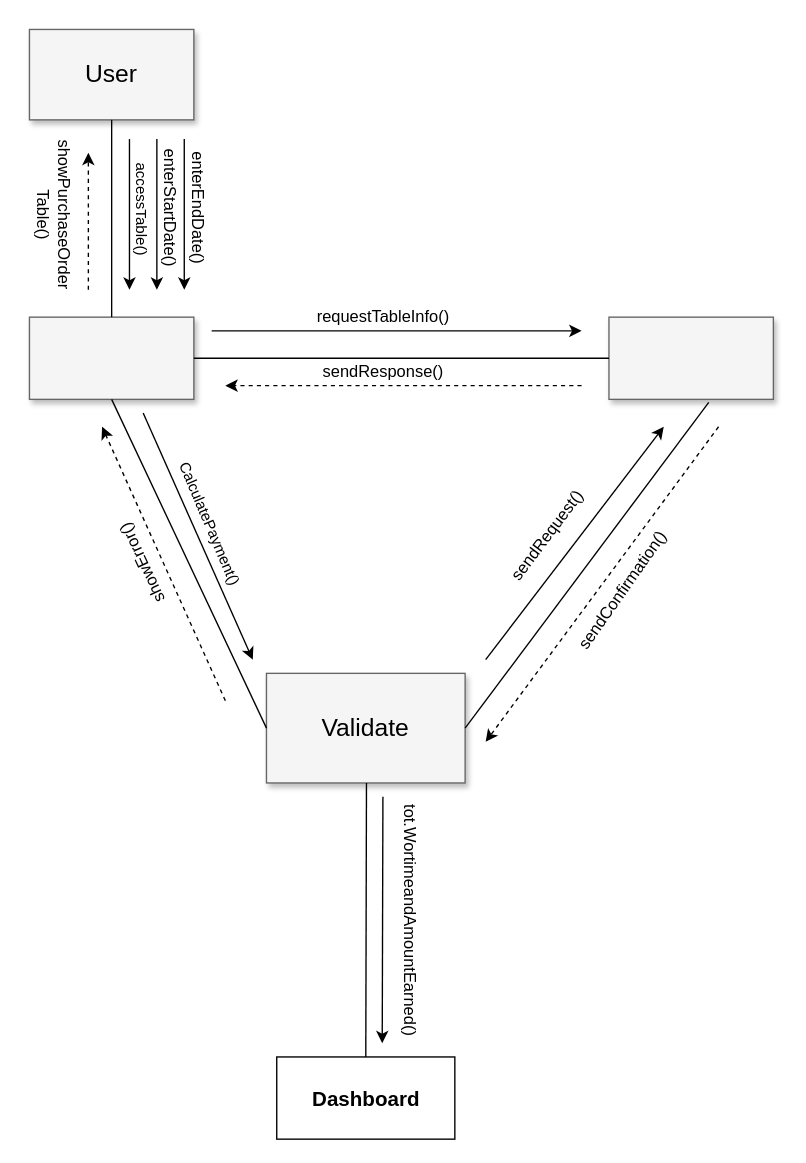
Some shapes in this 806 by 1163 pixel diagram are drawn without their labels. The centre of each missing label's shape, as x and y in pixels:
"Database" belongs at pixel 692 359.
"Table" belongs at pixel 112 359.
